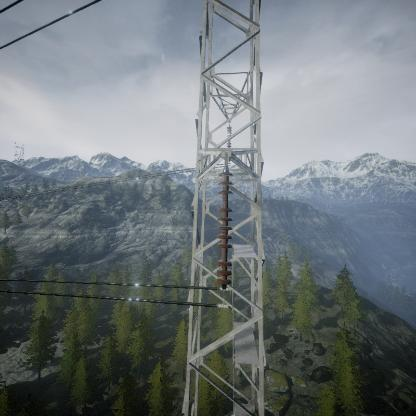insulator: (214, 166, 235, 290)
